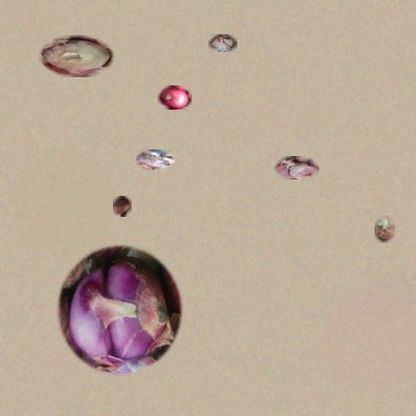damaged: (54, 242, 185, 378)
healthy: (38, 35, 115, 77), (158, 85, 192, 110)
rotten: (136, 150, 175, 170), (375, 215, 395, 243), (208, 34, 237, 52)
sprouted: (274, 156, 319, 180), (113, 196, 132, 217)
